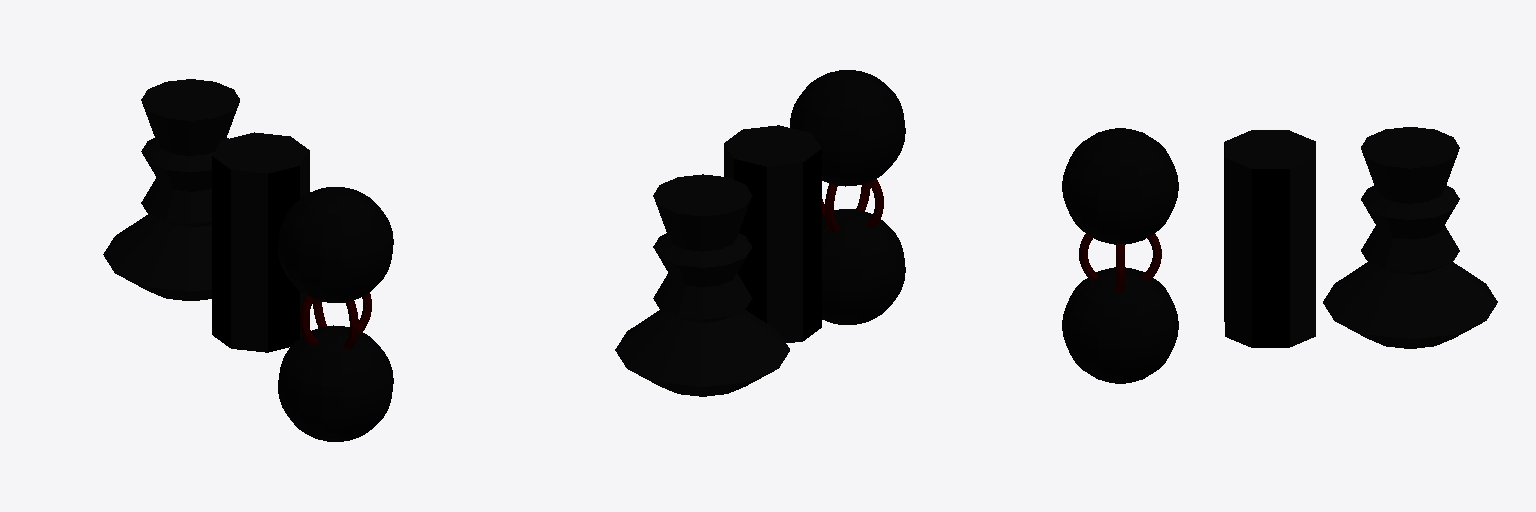
File: RocketFuelBody.obj
3 renders of one model, left to right at view 1: azimuth 30°, elevation 25°; view 2: azimuth 150°, elevation 25°; view 3: azimuth 270°, elevation 25°, orthographic.
Parts seen in each view (by area): view 1: Body_003_Sphere.001, Body_001_Cylinder.009, Body_002_Cylinder.010; view 2: Body_002_Cylinder.010, Body_003_Sphere.001, Body_001_Cylinder.009; view 3: Body_002_Cylinder.010, Body_003_Sphere.001, Body_001_Cylinder.009.
Boxes of the visible parts, x1,y1,x2,y2 form: Body_003_Sphere.001: [278, 187, 393, 441]; Body_001_Cylinder.009: [212, 132, 309, 352]; Body_002_Cylinder.010: [103, 79, 239, 300]; Body_002_Cylinder.010: [615, 174, 789, 396]; Body_003_Sphere.001: [790, 70, 905, 324]; Body_001_Cylinder.009: [724, 125, 821, 342]; Body_002_Cylinder.010: [1323, 127, 1497, 348]; Body_003_Sphere.001: [1062, 128, 1178, 383]; Body_001_Cylinder.009: [1224, 130, 1315, 347].
Bounding box in the file's own units: 6.31 × 9.72 × 15.68.